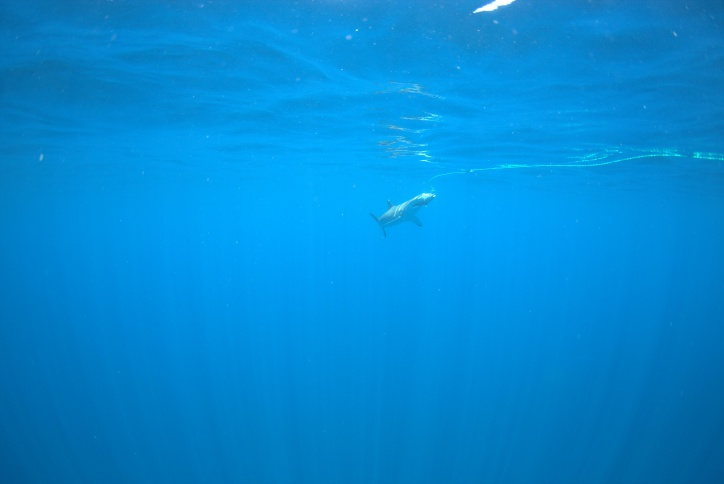Sedoso: (351, 184, 440, 246)
